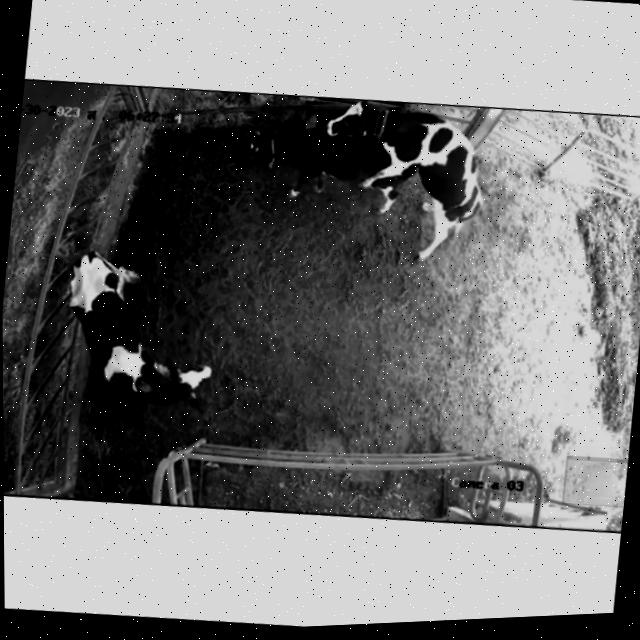ride: (308, 90, 504, 284)
